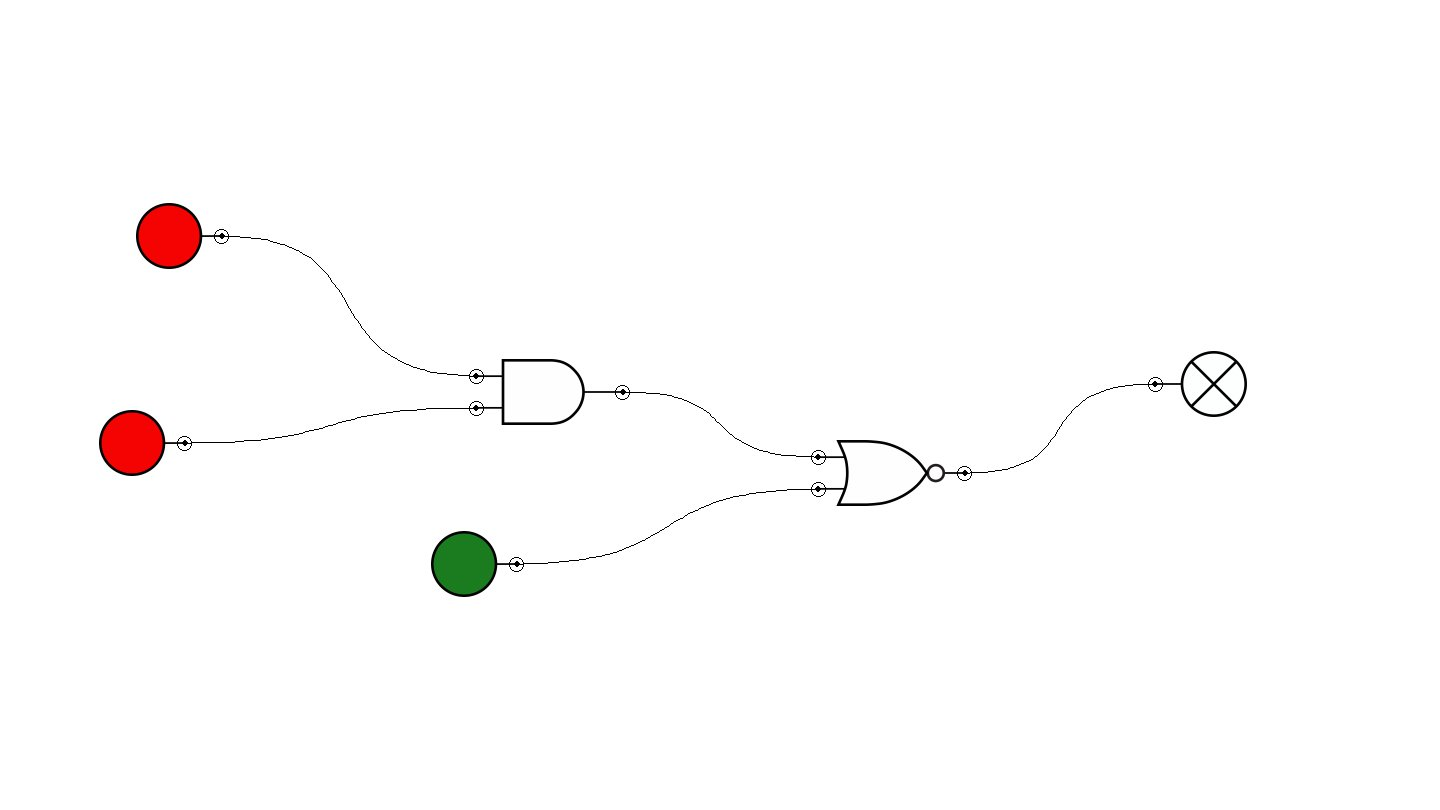and: (469, 359, 630, 425)
bulb: (1148, 351, 1247, 417)
nor: (811, 440, 972, 506)
switch_False: (136, 203, 229, 269), (99, 410, 192, 476)
switch_True: (431, 531, 524, 597)
